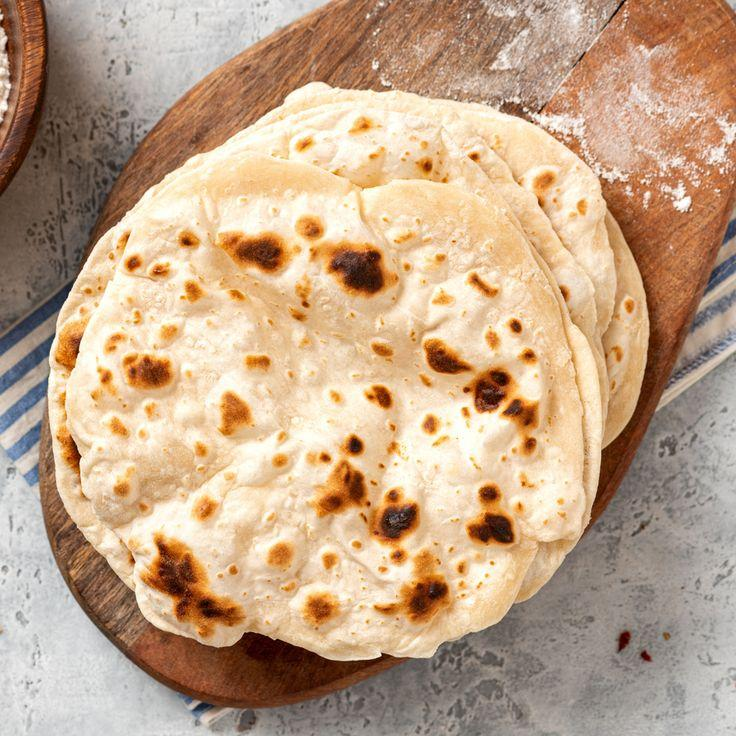roti phulka: (56, 87, 652, 659)
